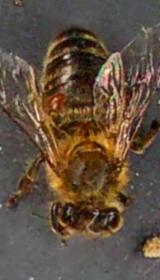varroa_mite: (39, 85, 72, 119)
